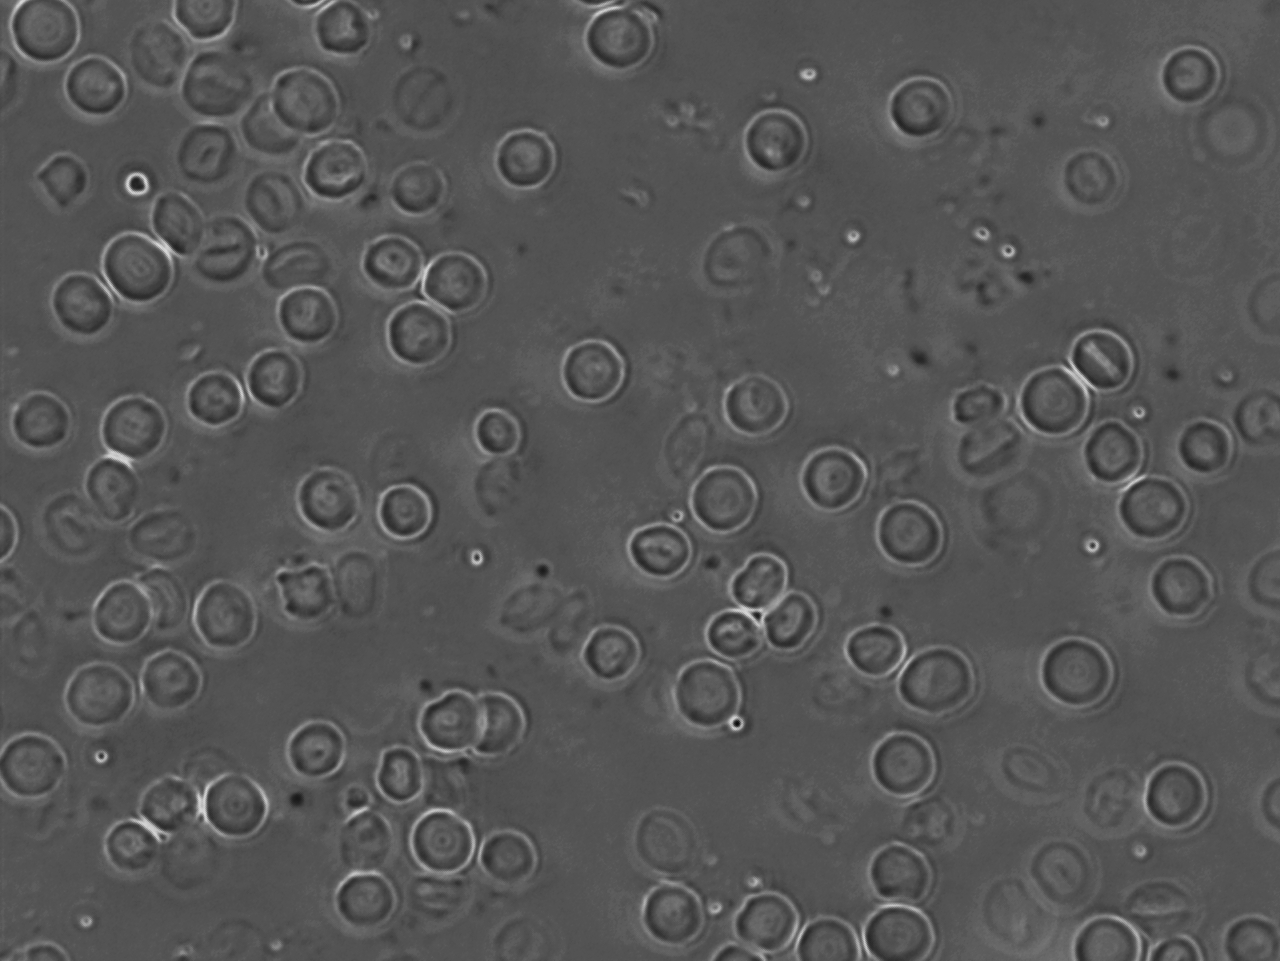depth:0: (545, 325, 647, 432), (478, 111, 578, 209), (1147, 27, 1242, 128), (1072, 412, 1167, 509), (576, 2, 675, 95), (882, 62, 972, 163), (122, 626, 220, 718), (1012, 358, 1107, 452), (726, 96, 820, 189), (88, 566, 188, 653), (411, 239, 505, 331), (363, 479, 455, 573), (55, 52, 150, 142), (271, 691, 358, 789), (663, 650, 755, 743), (376, 150, 473, 236), (190, 762, 291, 845), (678, 446, 769, 538), (793, 429, 880, 525), (369, 293, 469, 376), (260, 60, 352, 149), (292, 459, 381, 552), (866, 491, 960, 578), (83, 223, 178, 310), (399, 790, 486, 885), (133, 171, 228, 257), (1137, 746, 1229, 835), (179, 575, 266, 668), (1032, 630, 1123, 719), (862, 717, 956, 803), (260, 272, 352, 358), (57, 648, 148, 735), (856, 818, 945, 906), (764, 576, 858, 660), (619, 503, 703, 596), (711, 362, 797, 451), (406, 668, 488, 762), (462, 813, 543, 907), (1167, 409, 1253, 497), (95, 382, 177, 473), (292, 130, 385, 211), (636, 862, 721, 949), (1066, 316, 1151, 402), (1139, 548, 1228, 630), (1115, 467, 1197, 556), (897, 640, 991, 717), (721, 539, 809, 618), (3, 381, 81, 468), (171, 359, 252, 442), (233, 333, 313, 418), (776, 885, 865, 961), (362, 733, 442, 817), (695, 596, 772, 679), (848, 887, 937, 960), (180, 51, 258, 133), (227, 162, 311, 238), (838, 608, 914, 691), (329, 859, 415, 933), (719, 883, 802, 958), (351, 226, 427, 307), (572, 614, 645, 697), (1057, 902, 1156, 961), (39, 266, 113, 342), (467, 398, 541, 471), (1148, 922, 1229, 961)
